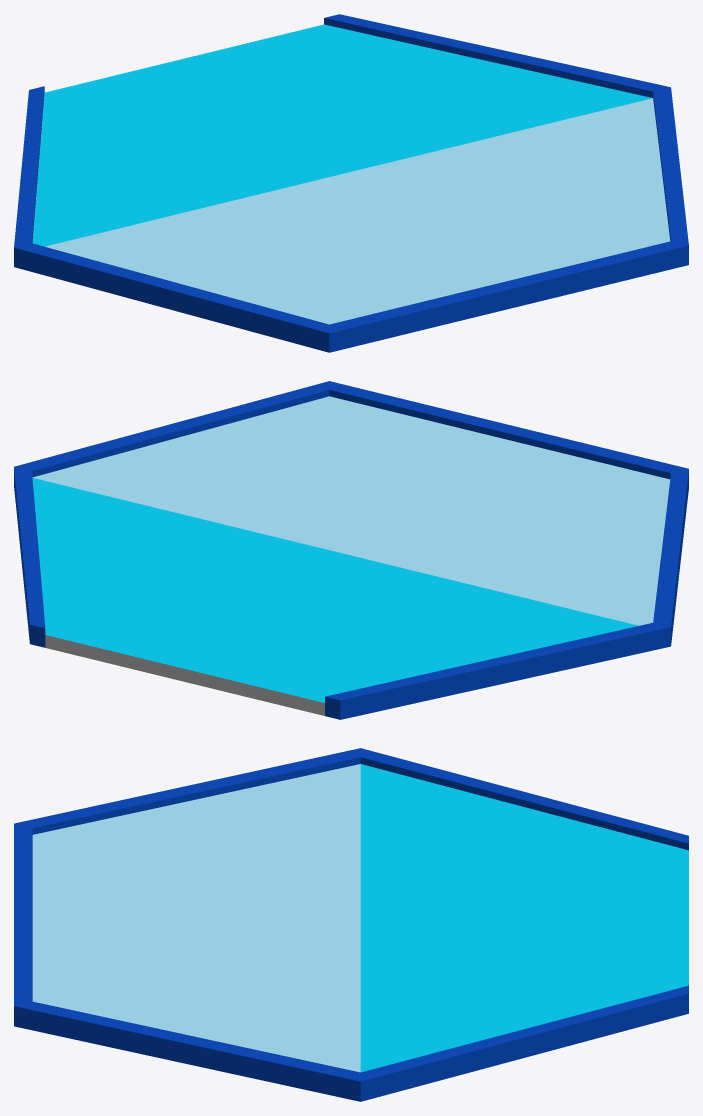
File: FinishArea.fbx
The picture shows the model from 3 angles, top to bottom: view 1: azimuth 30°, elevation 25°; view 2: azimuth 150°, elevation 25°; view 3: azimuth 270°, elevation 25°; orthographic projection. The views are drawn at different scales.
Visible parts, largest first — view 1: FinishArea; view 2: FinishArea; view 3: FinishArea.
Boxes of the visible parts, bbox=[...] form: FinishArea: bbox=[14, 14, 688, 352]; FinishArea: bbox=[14, 381, 688, 719]; FinishArea: bbox=[14, 748, 688, 1101].
Bounding box in the file's own units: 106 × 3 × 90.47.
